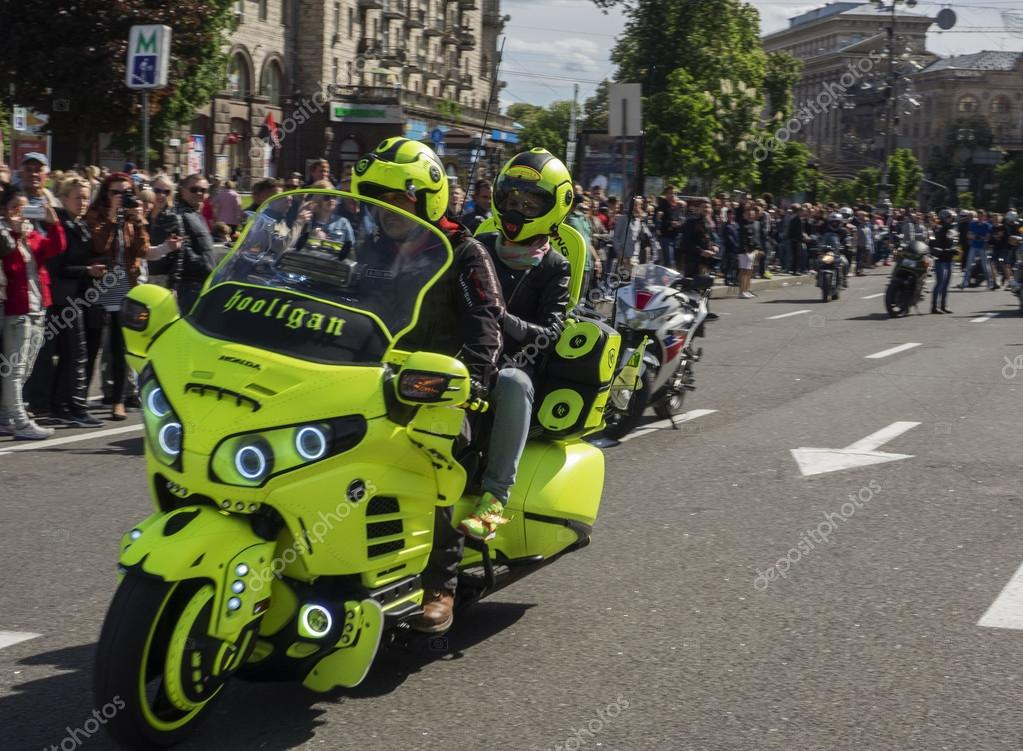helmet: (347, 115, 460, 221), (488, 144, 593, 235)
